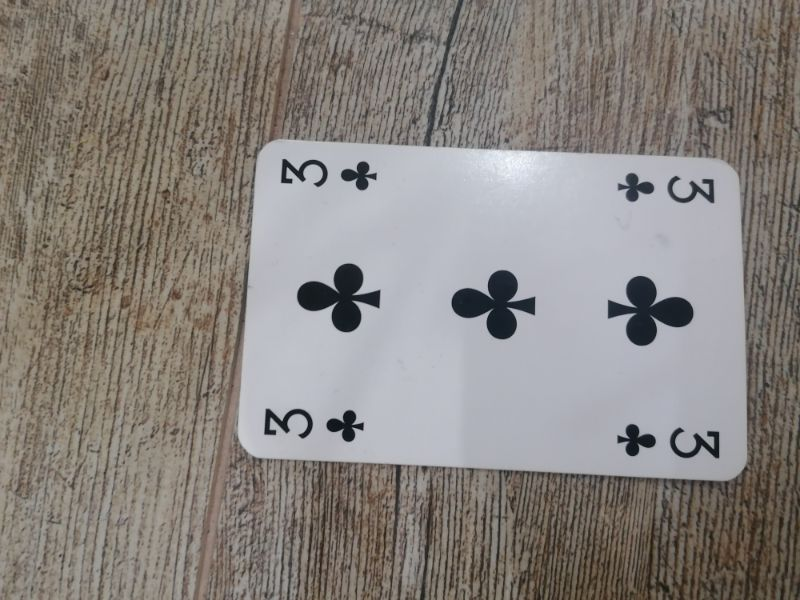3c: (612, 419, 725, 461), (262, 404, 369, 446), (275, 153, 380, 193), (615, 169, 719, 209)
